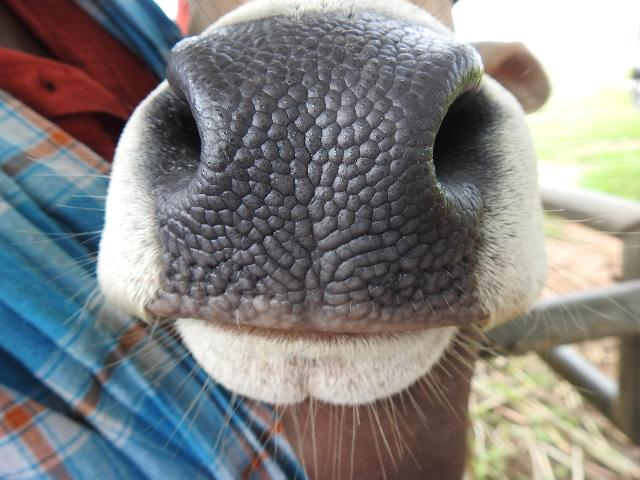Muzzle: (190, 42, 434, 314)
